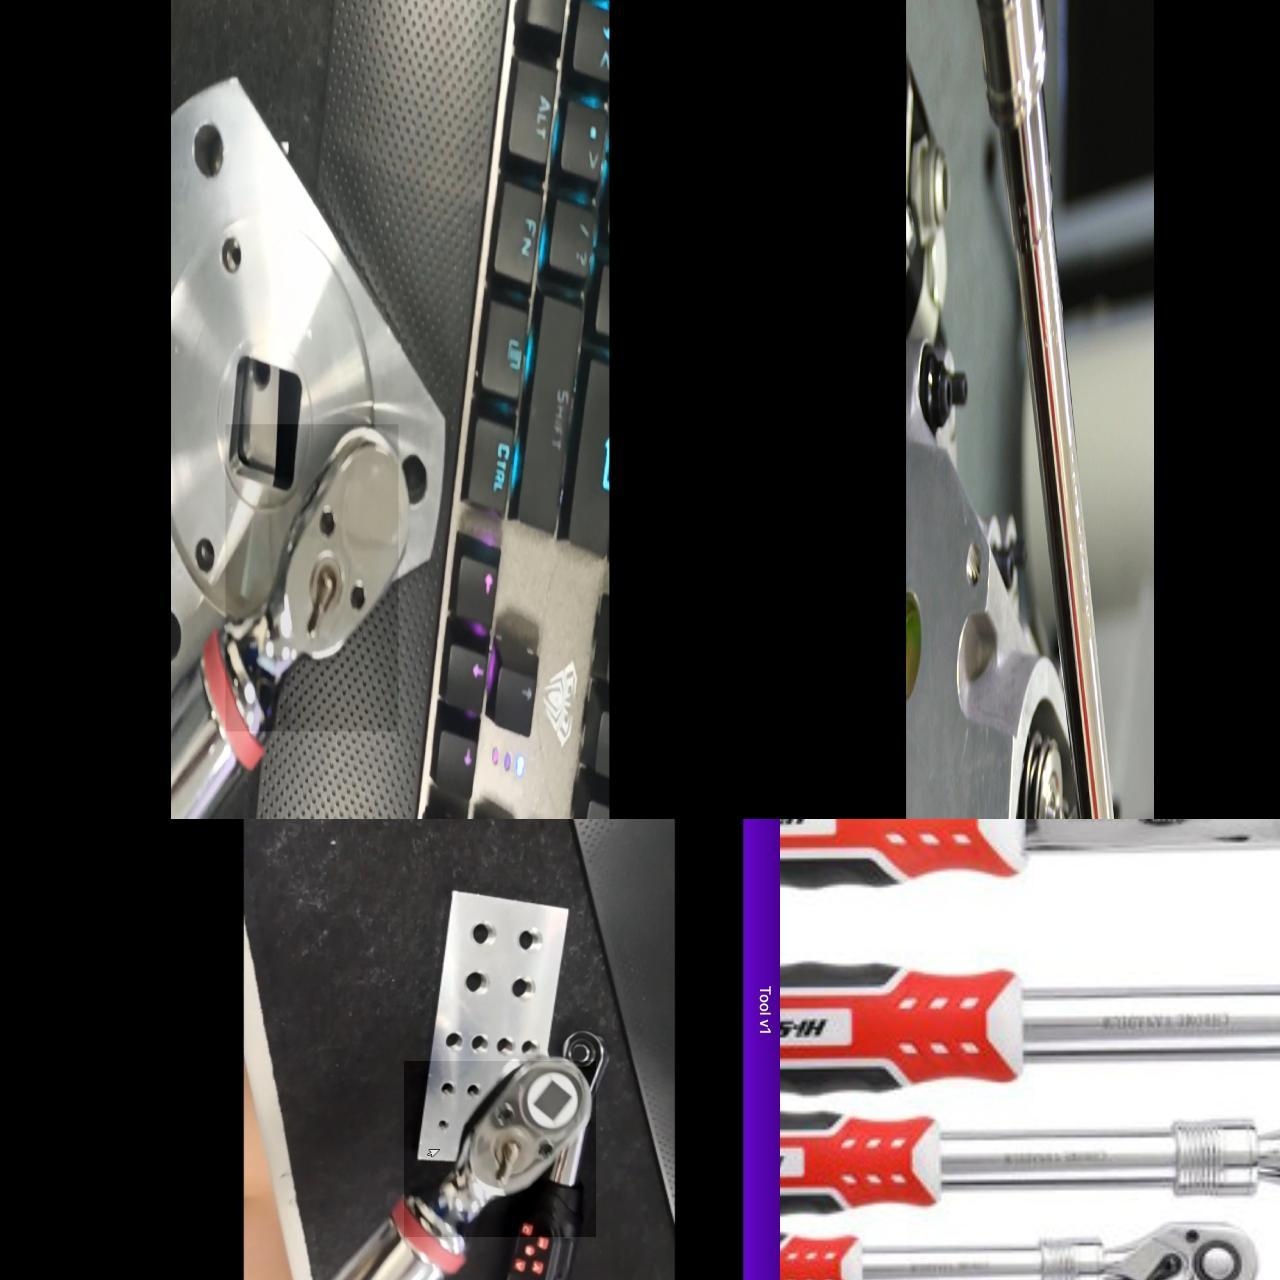Tool: (225, 424, 397, 731), (404, 1058, 598, 1238), (1115, 1216, 1262, 1280)
hole: (188, 124, 248, 200), (397, 445, 438, 511), (210, 232, 251, 281), (192, 526, 218, 584), (470, 920, 501, 955), (464, 971, 493, 999), (508, 975, 533, 1005), (518, 924, 540, 954), (447, 1029, 468, 1053), (440, 1076, 458, 1099), (470, 1036, 489, 1057), (497, 1036, 511, 1057), (519, 1041, 536, 1057), (436, 1116, 449, 1136), (465, 1082, 481, 1096)
